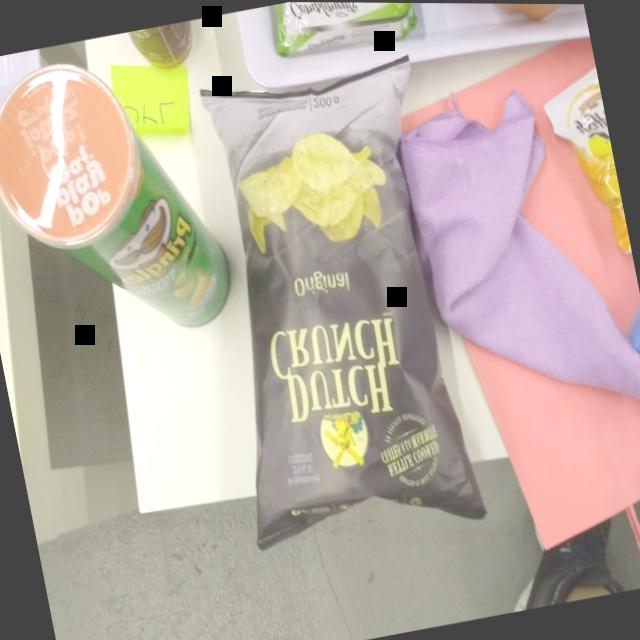potato_chips: (166, 44, 504, 566)
pringles: (0, 35, 244, 363)
